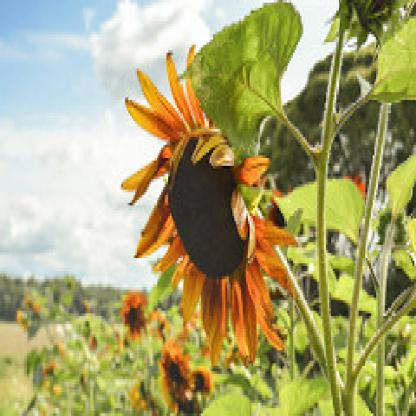SUN FLOWER: (98, 27, 341, 391)
